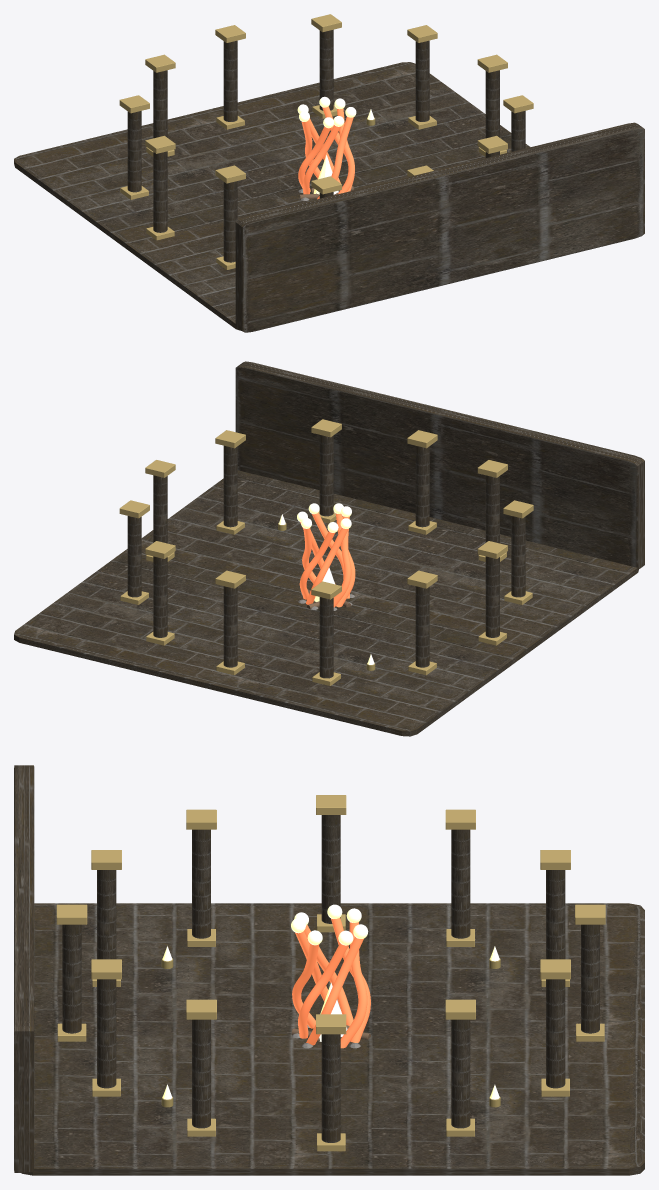
Rendered from adi-02-snake-sacrifice.glb.
The picture shows the model from 3 angles, top to bottom: view 1: azimuth 30°, elevation 25°; view 2: azimuth 150°, elevation 25°; view 3: azimuth 270°, elevation 25°; orthographic projection. The views are drawn at different scales.
Visible parts, largest first — view 1: GEO-rearwall, GEO-floor, GEO-col.006, GEO-col.005, GEO-col.001, GEO-col.003, GEO-col.007, GEO-col.002, GEO-col.004, GEO-col, GEO-col.011, GEO-serpent3 (+3 smaller); view 2: GEO-floor, GEO-rearwall, GEO-col.001, GEO-col.003, GEO-col.005, GEO-col.006, GEO-col.004, GEO-col.007, GEO-col.010, GEO-col.002, GEO-col.009, GEO-col.011 (+5 smaller); view 3: GEO-floor, GEO-rearwall, GEO-col.005, GEO-col.009, GEO-col.001, GEO-col.010, GEO-col.002, GEO-col, GEO-col.007, GEO-col.003, GEO-col.011, GEO-col.006 (+19 smaller).
Part boxes in pixels (bbox=[...]): GEO-rearwall: bbox=[235, 122, 644, 332]; GEO-floor: bbox=[14, 62, 530, 330]; GEO-col.006: bbox=[153, 151, 167, 232]; GEO-col.005: bbox=[127, 111, 141, 192]; GEO-col.001: bbox=[415, 40, 429, 121]; GEO-col.003: bbox=[223, 40, 237, 121]; GEO-col.007: bbox=[223, 181, 237, 262]; GEO-col.002: bbox=[319, 29, 333, 110]; GEO-col.004: bbox=[153, 70, 167, 138]; GEO-col: bbox=[485, 70, 499, 138]; GEO-col.011: bbox=[511, 111, 525, 151]; GEO-serpent3: bbox=[302, 125, 340, 194]; GEO-floor: bbox=[14, 470, 638, 736]; GEO-rearwall: bbox=[235, 361, 644, 569]; GEO-col.001: bbox=[127, 516, 141, 597]; GEO-col.003: bbox=[223, 586, 237, 667]; GEO-col.005: bbox=[415, 586, 429, 667]; GEO-col.006: bbox=[485, 556, 499, 637]; GEO-col.004: bbox=[319, 597, 333, 678]; GEO-col.007: bbox=[511, 516, 525, 597]; GEO-col.010: bbox=[319, 435, 333, 516]; GEO-col.002: bbox=[153, 556, 167, 637]; GEO-col.009: bbox=[415, 446, 429, 527]; GEO-col.011: bbox=[223, 445, 237, 527]; GEO-floor: bbox=[21, 903, 644, 1175]; GEO-rearwall: bbox=[14, 765, 34, 1172]; GEO-col.005: bbox=[451, 829, 470, 938]; GEO-col.009: bbox=[62, 924, 81, 1033]; GEO-col.001: bbox=[451, 1019, 470, 1128]; GEO-col.010: bbox=[97, 979, 116, 1088]; GEO-col.002: bbox=[546, 979, 565, 1088]; GEO-col: bbox=[321, 1034, 340, 1142]; GEO-col.007: bbox=[192, 829, 210, 938]; GEO-col.003: bbox=[581, 924, 599, 1033]; GEO-col.011: bbox=[192, 1019, 210, 1128]; GEO-col.006: bbox=[321, 815, 340, 923].
Bounding box in the file's own units: 46 × 12.41 × 46.25.
Materials: 10 (2 with a texture image).
